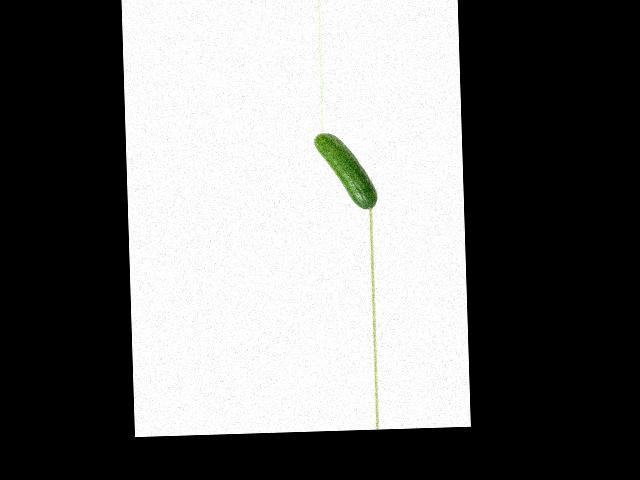cucumber: (314, 131, 378, 211)
